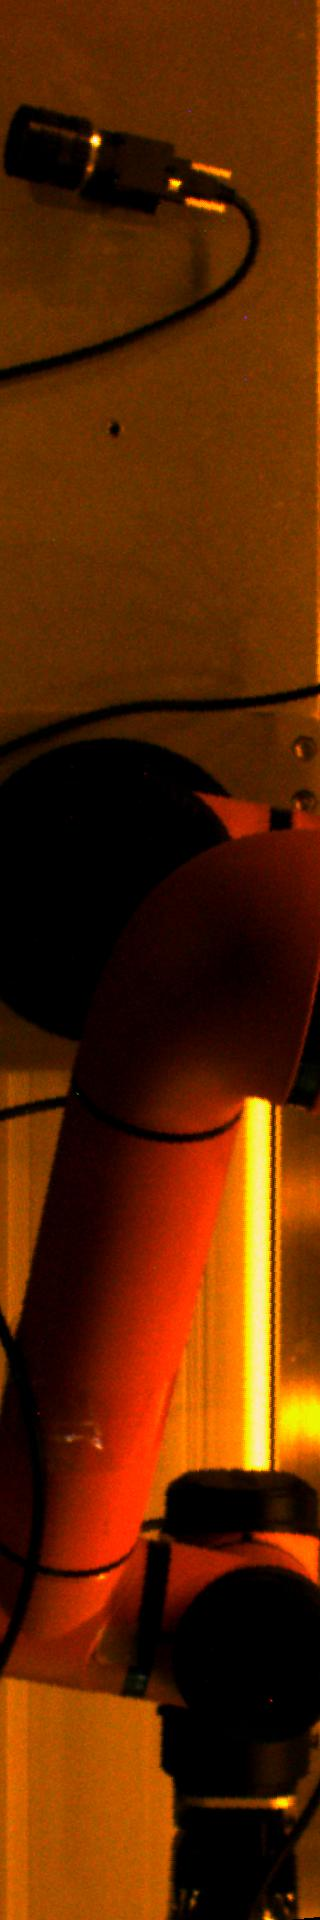keyPoint_2: (99, 416, 129, 446)
